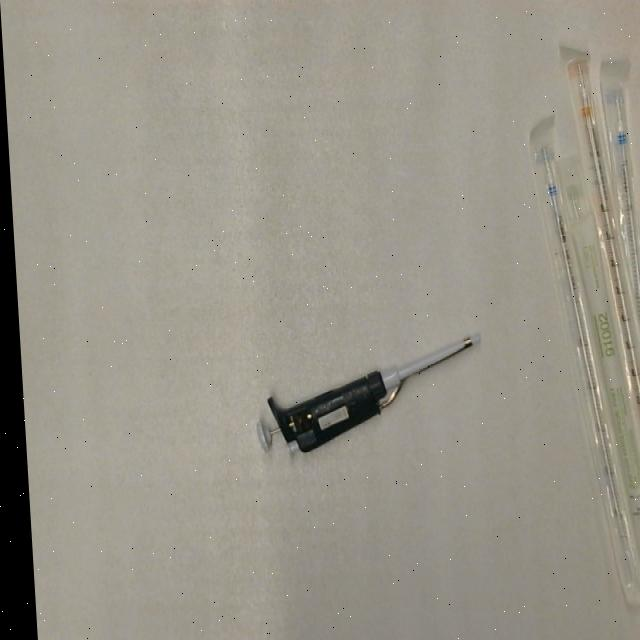Serelogical Pipet 10 mL: (559, 52, 640, 530)
Serelogical Pipet 2 mL: (553, 158, 640, 627)
Serelogical Pipet 5 mL: (527, 108, 640, 613), (597, 56, 640, 440)
Single Channel Pipettor: (241, 327, 486, 464)
